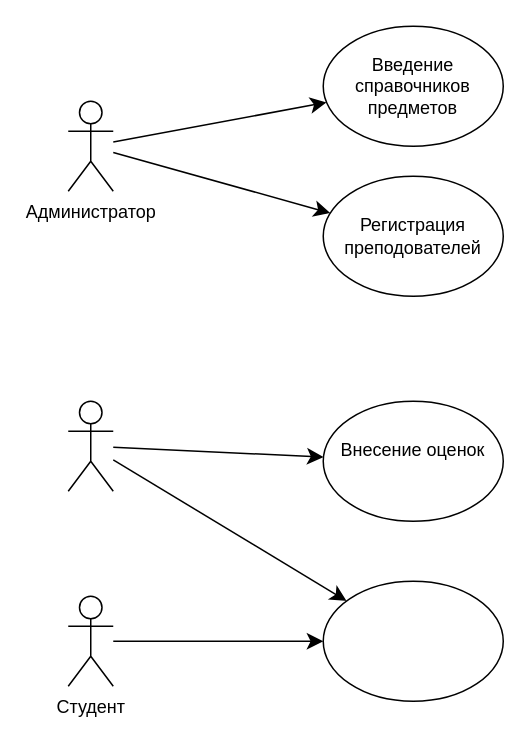
This 530x744 diagram has some shape labels left out. The shapes that lost their labels are listed below. From the top down, each one's box as (x1, y1, x2, y2) in pixels, then its label:
(67, 400, 113, 491): Преподователь
(322, 580, 503, 701): Просмотр успеваемости
